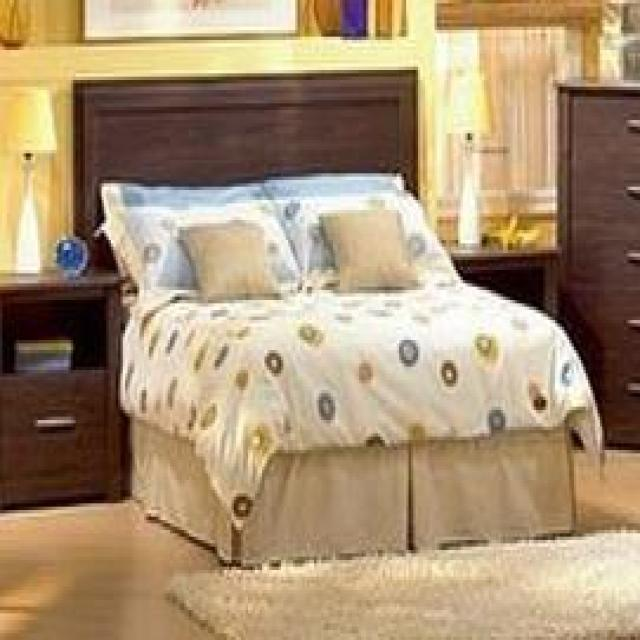bed: (71, 66, 604, 566)
